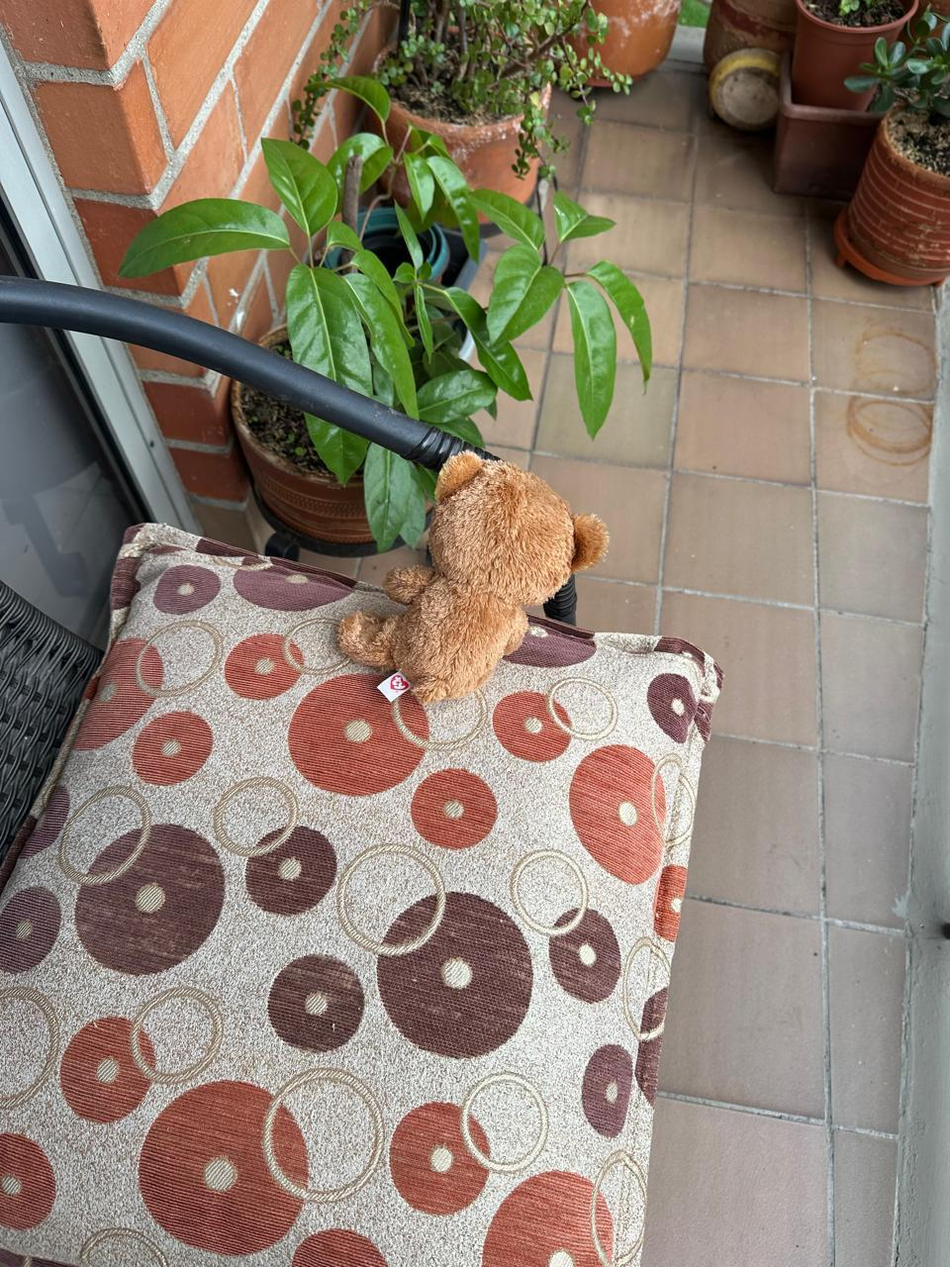peluche_sebastian: (336, 428, 614, 700)
